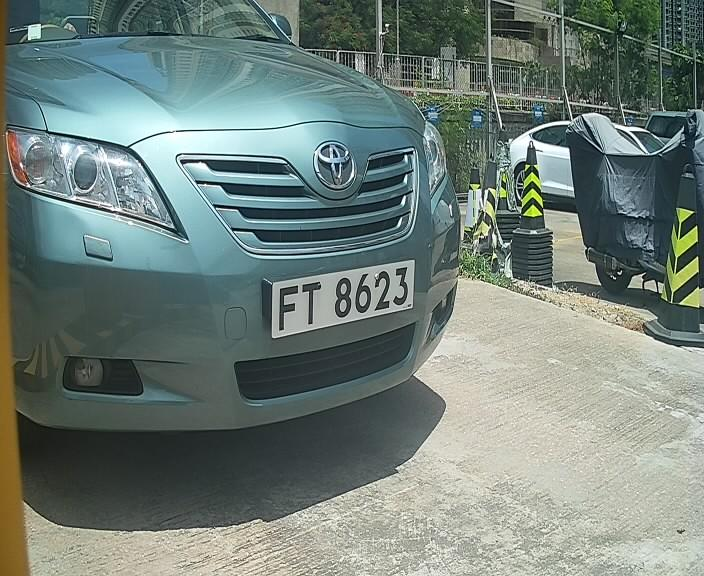License Plate: (261, 253, 415, 340)
